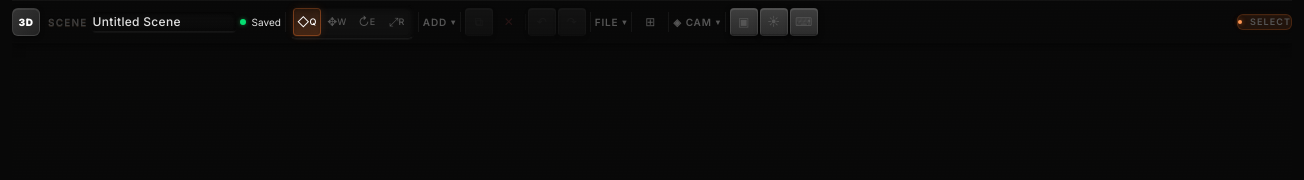
Toolbar › shows add items when dropdown is opened
Click the button with aria-label "Add objects" at (439, 22), box x1=423 y1=8 x2=456 y2=36
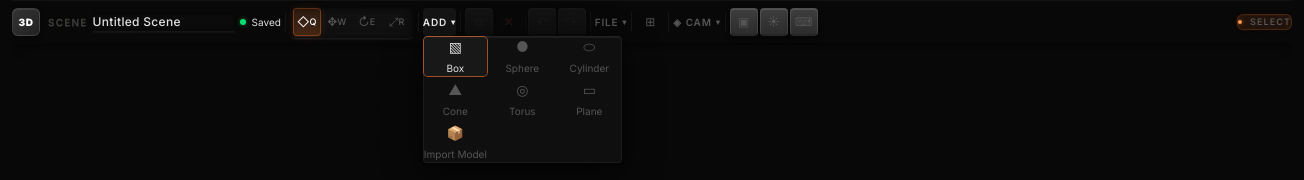
Expected: the menu item "▧ Box" is shown, x1=424 y1=37 x2=487 y2=76
Expected: the menu item "● Sphere" is shown, x1=491 y1=37 x2=554 y2=76
Expected: the menu item "⬭ Cylinder" is shown, x1=558 y1=37 x2=621 y2=76
